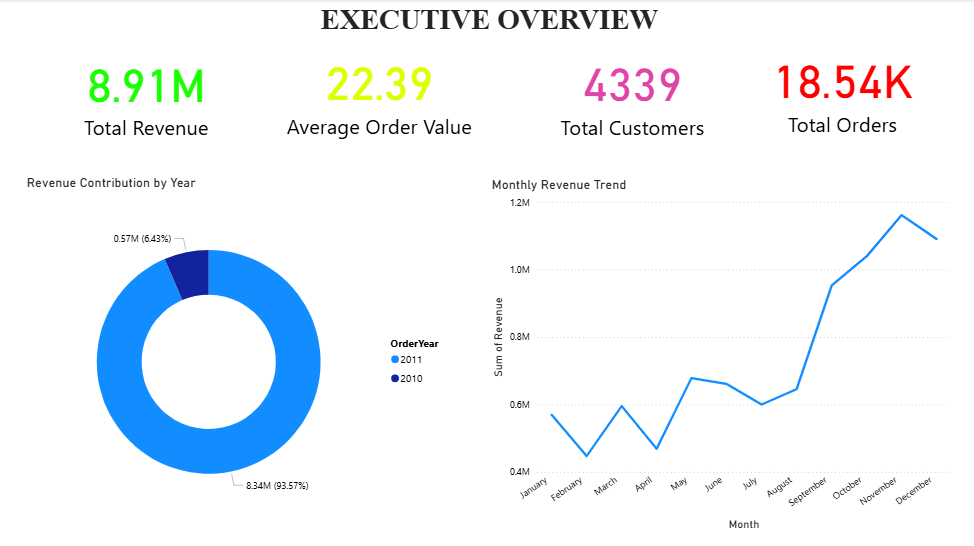

Layout of this report page (visuals, bound fields, positions):
{"tool":"powerbi","page":{"name":"Page 1","canvas":[1280,720],"ordinal":0},"visuals":[{"type":"card","fields":{"Values":["Sum(cleaned_ecommerce_data.Revenue)"]},"box":[80.6,55.2,220.9,135.8],"z":0},{"type":"card","fields":{"Values":["Count(cleaned_ecommerce_data.InvoiceNo)"]},"box":[995.5,46.3,216.4,144.8],"z":1000},{"type":"card","fields":{"Values":["Count(cleaned_ecommerce_data.CustomerID)"]},"box":[710.4,53.7,234.3,137.3],"z":2000},{"type":"card","fields":{"Values":["Avg(cleaned_ecommerce_data.Revenue)"]},"box":[355.2,47.8,283.6,147.8],"z":3000},{"type":"lineChart","title":"Monthly Revenue Trend","fields":{"Category":["cleaned_ecommerce_data.OrderMonth.Variation.Date Hierarchy.Month"],"Y":["Sum(cleaned_ecommerce_data.Revenue)"]},"box":[638.8,232.8,610.4,467.2],"z":4000},{"type":"donutChart","title":"Revenue Contribution by Year","fields":{"Category":["cleaned_ecommerce_data.OrderYear"],"Y":["Sum(cleaned_ecommerce_data.Revenue)"]},"box":[29.9,229.9,567.2,470.1],"z":5000},{"type":"textbox","box":[0,0,1280.6,65.3],"z":6000}]}

Visuals, with their boxes in screenshot pixels (x1, y1, x2, y2), scaled from the page's 1280x720 canvas onto the 974x546 screenshot:
card - Sum(cleaned_ecommerce_data.Revenue): (left=61, top=42, right=229, bottom=145)
card - Count(cleaned_ecommerce_data.InvoiceNo): (left=758, top=35, right=922, bottom=145)
card - Count(cleaned_ecommerce_data.CustomerID): (left=541, top=41, right=719, bottom=145)
card - Avg(cleaned_ecommerce_data.Revenue): (left=270, top=36, right=486, bottom=148)
"Monthly Revenue Trend" lineChart: (left=486, top=177, right=951, bottom=531)
"Revenue Contribution by Year" donutChart: (left=23, top=174, right=454, bottom=531)
textbox: (left=0, top=0, right=973, bottom=50)
